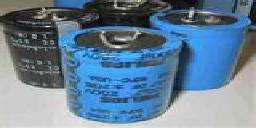Electrolytic-Capacitor: (61, 23, 186, 124)
